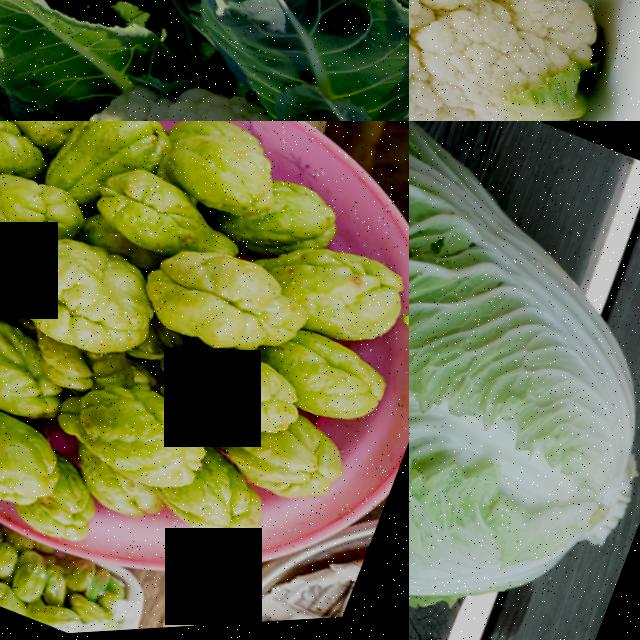cabbage: (409, 121, 640, 640)
cauliflower: (0, 0, 409, 121), (409, 0, 640, 121), (409, 0, 640, 35)
chayote: (135, 222, 293, 369), (72, 155, 240, 285), (50, 365, 202, 505), (0, 232, 145, 376), (256, 326, 400, 458), (128, 121, 289, 236), (141, 333, 291, 448), (205, 407, 346, 524), (283, 235, 404, 356), (0, 283, 84, 442), (0, 376, 71, 548), (0, 149, 82, 276)
